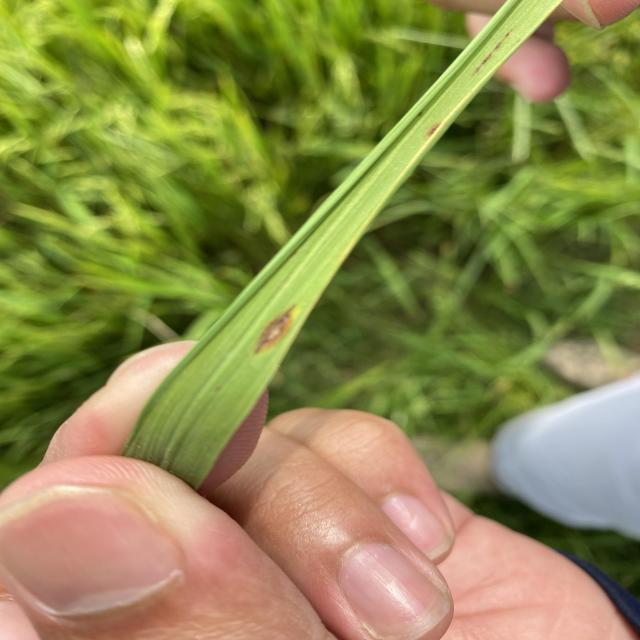Dom nau: (253, 302, 296, 355), (423, 124, 442, 141)
